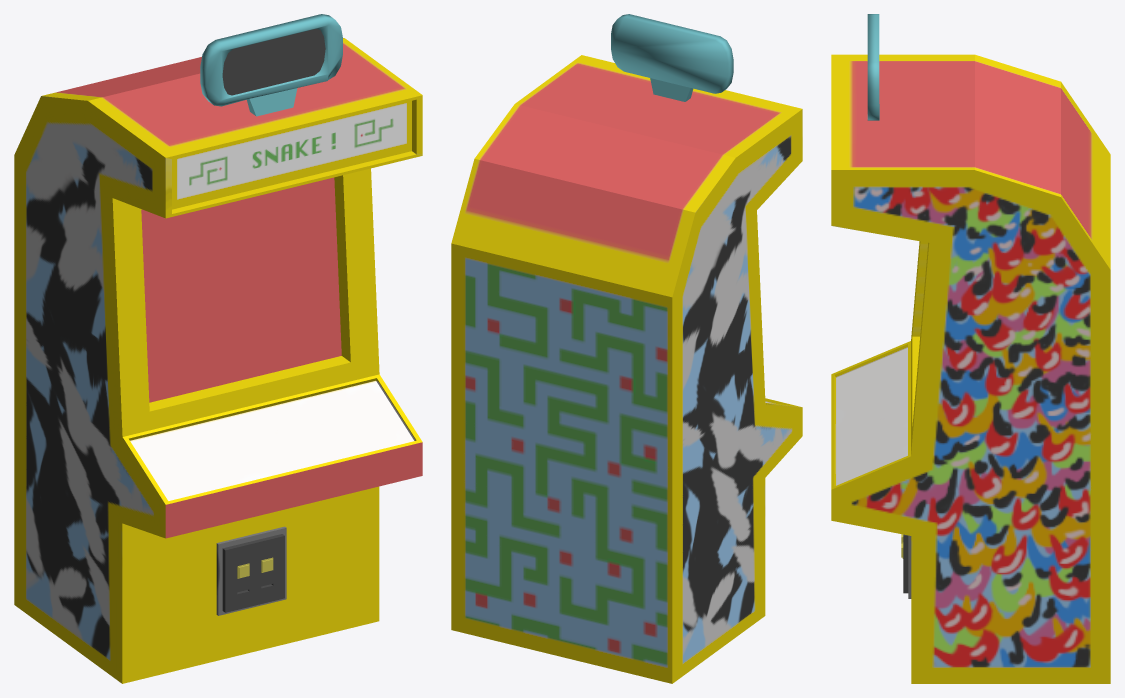
File: Arcade_v2.obj
3 renders of one model, left to right at view 1: azimuth 30°, elevation 25°; view 2: azimuth 150°, elevation 25°; view 3: azimuth 270°, elevation 25°, orthographic. The views are drawn at different scales.
Visible parts, largest first — view 1: Cube.001_Cube; view 2: Cube.001_Cube; view 3: Cube.001_Cube.
Boxes of the visible parts, bbox=[...] form: Cube.001_Cube: bbox=[14, 14, 422, 683]; Cube.001_Cube: bbox=[451, 14, 802, 683]; Cube.001_Cube: bbox=[831, 14, 1110, 683].
Size of the model in its own units: 1.28 by 3.04 by 1.31.
